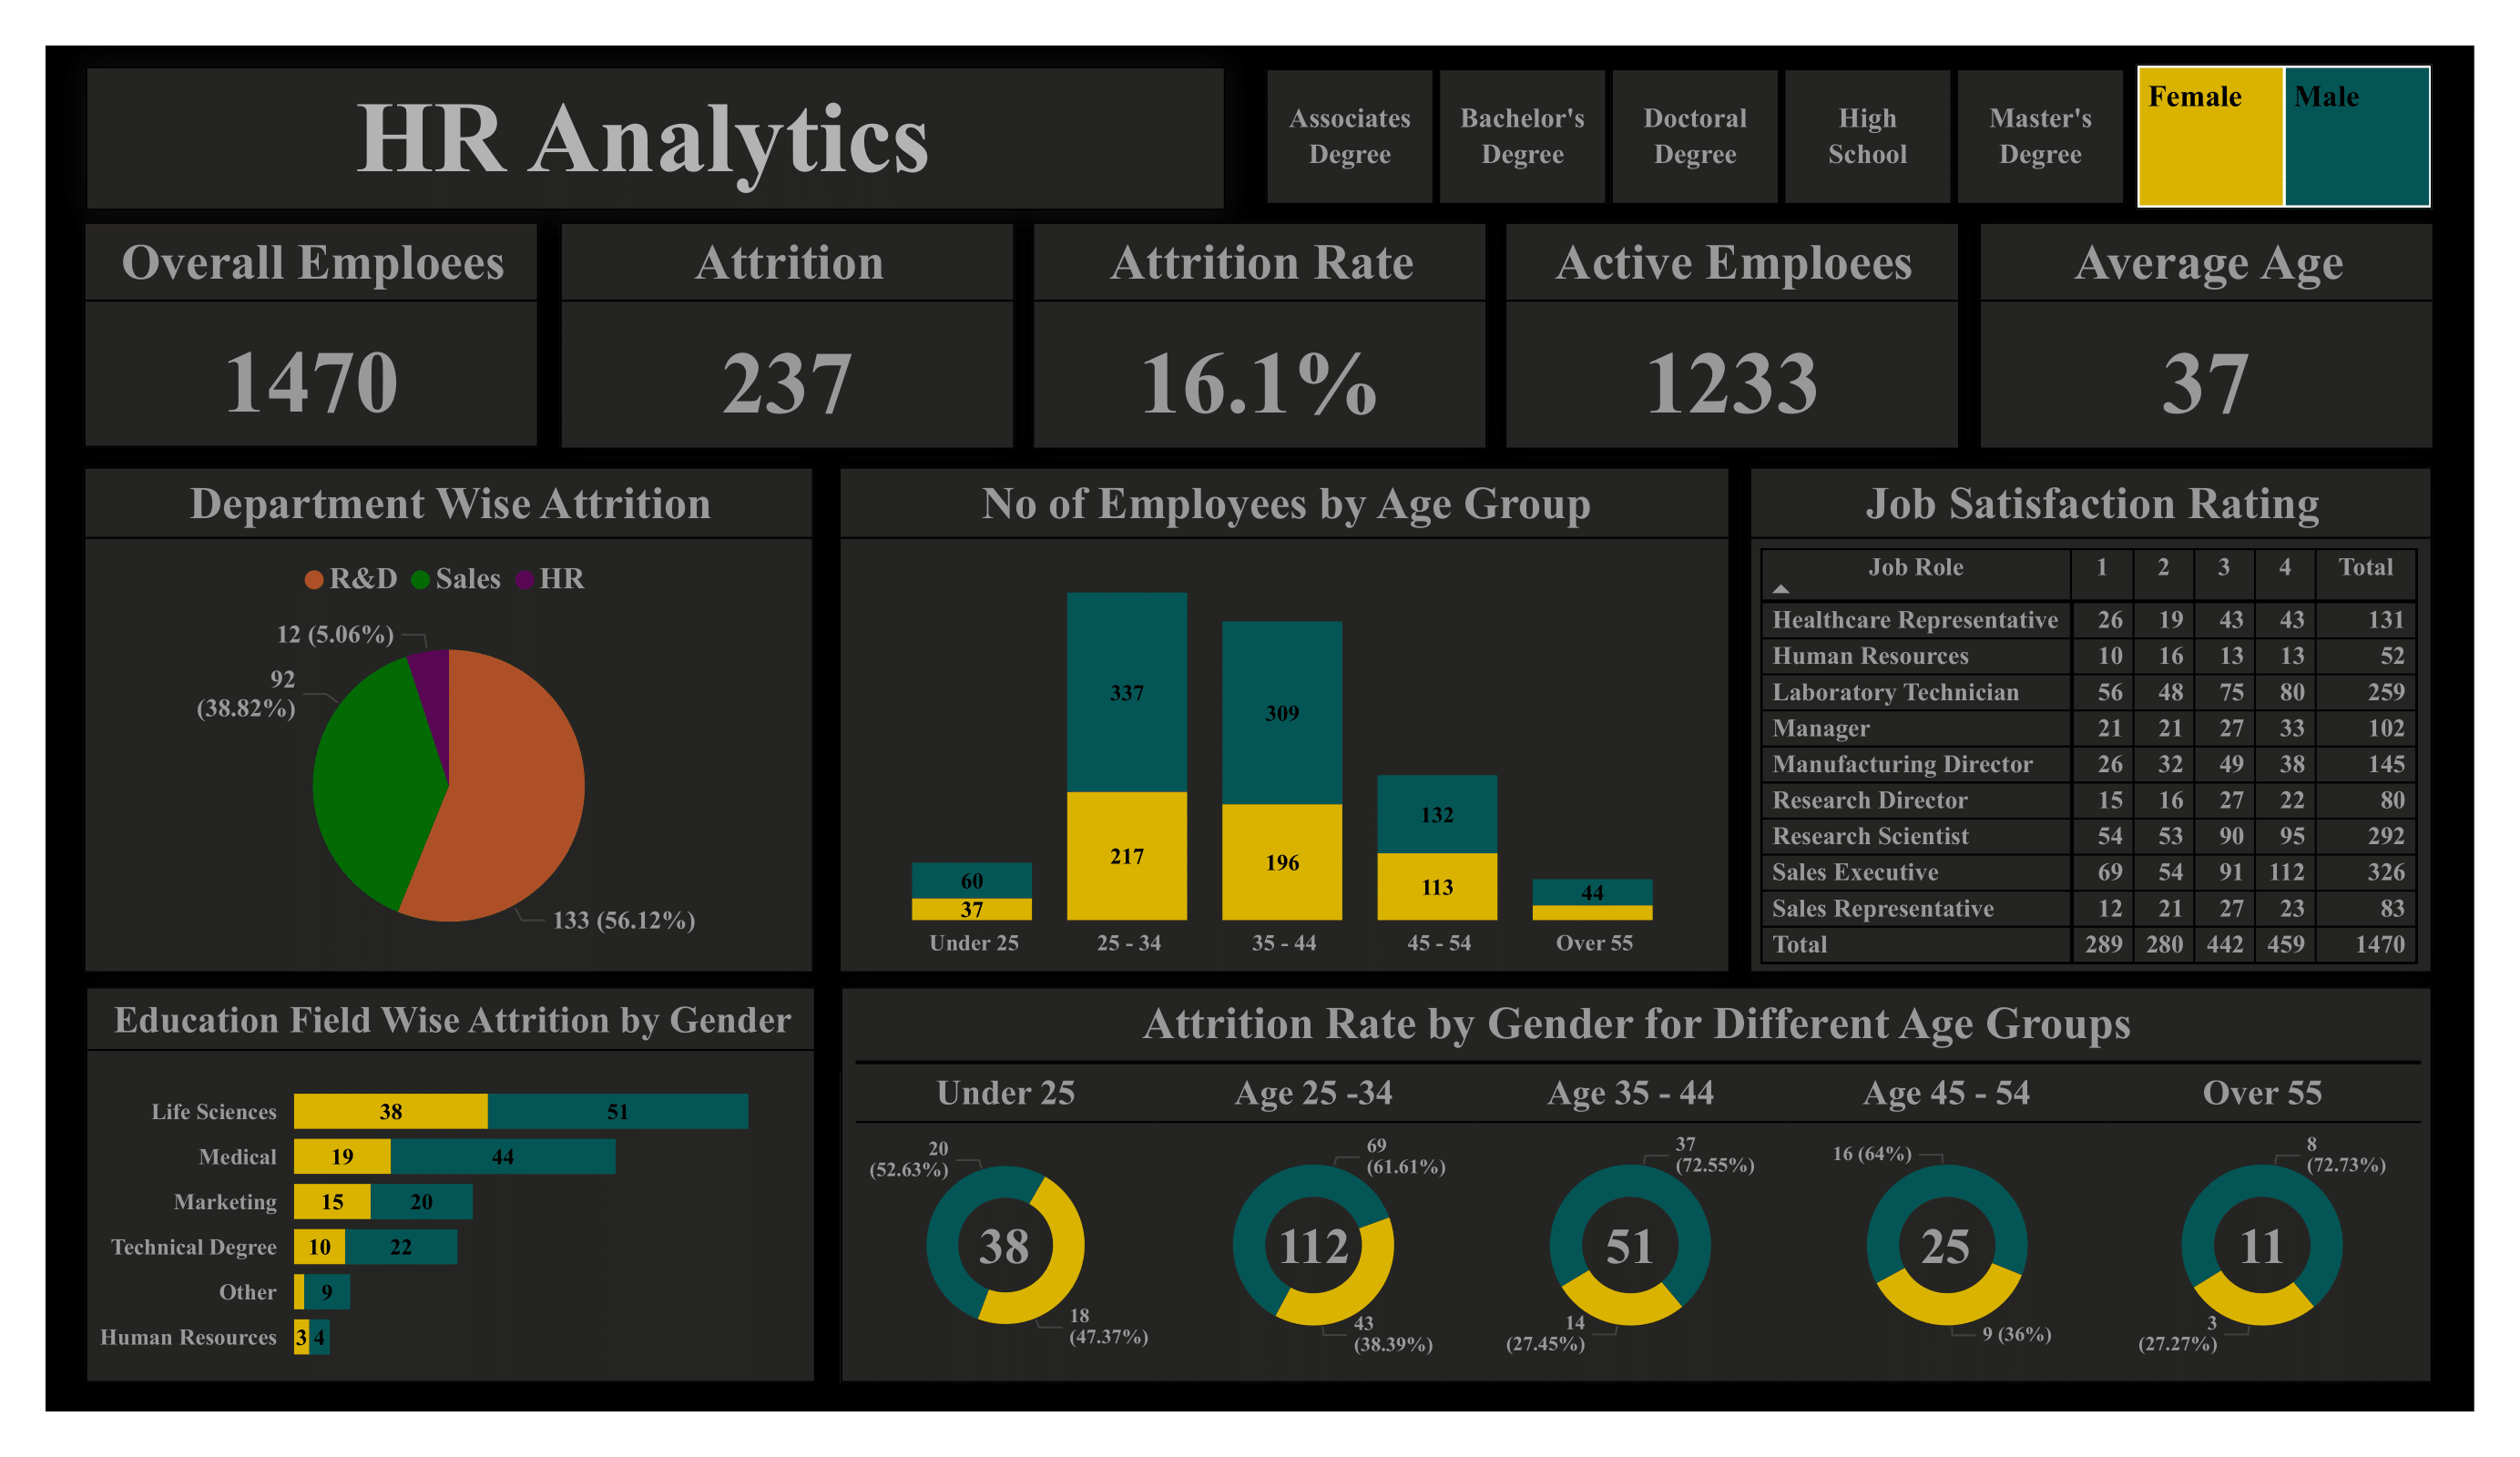

What the dashboard file says about the page in this screenshot:
{"tool":"powerbi","page":{"name":"HR_Dashboard","canvas":[1280,720],"ordinal":0},"visuals":[{"type":"card","title":"Overall Emploees","fields":{"Values":["Sum(HR data.Employee Count)"]},"box":[19.8,92.6,240.7,119.8],"z":0},{"type":"textbox","box":[21.1,10.5,601.3,76.3],"z":1000},{"type":"card","title":"Attrition","fields":{"Values":["Sum(HR data.Attrition Count)"]},"box":[271.2,92.8,240,120],"z":2000},{"type":"card","title":"Attrition Rate","fields":{"Values":["HR data.Attrition_Rate"]},"box":[520,92.8,240,120],"z":3000},{"type":"card","title":"Active Emploees","fields":{"Values":["HR data.Active_emp"]},"box":[768.8,92.8,240,120],"z":4000},{"type":"card","title":"Average Age","fields":{"Values":["Avg(HR data.Age)"]},"box":[1018.8,92.8,240,120],"z":5000},{"type":"pieChart","title":"Department Wise Attrition","fields":{"Category":["HR data.Department"],"Y":["Sum(HR data.Attrition Count)"]},"box":[19.7,221.8,385.1,267.4],"z":6000},{"type":"columnChart","title":"No of Employees by Age Group","fields":{"Category":["HR data.CF_age band"],"Series":["HR data.Gender"],"Y":["Sum(HR data.Employee Count)"]},"box":[417.8,221.8,469.9,267.4],"z":7000},{"type":"pivotTable","title":"Job Satisfaction Rating","fields":{"Rows":["HR data.Job Role"],"Columns":["HR data.Job Satisfaction"],"Values":["Sum(HR data.Employee Count)"]},"box":[897.7,221.8,360.2,267.4],"z":8000},{"type":"barChart","title":"Education Field Wise Attrition  by Gender","fields":{"Category":["HR data.Education Field"],"Y":["Sum(HR data.Attrition Count)"],"Series":["HR data.Gender"]},"box":[21,496.3,385.2,208.6],"z":9000},{"type":"donutChart","title":"Under 25","fields":{"Category":["HR data.Gender"],"Y":["Sum(HR data.Attrition Count)"],"Series":["HR data.CF_age band"]},"box":[418.5,540.7,167,164.2],"z":10000},{"type":"donutChart","title":"Age 25 -34","fields":{"Category":["HR data.Gender"],"Y":["Sum(HR data.Attrition Count)"],"Series":["HR data.CF_age band"]},"box":[585.2,540.7,166.7,164.2],"z":11000},{"type":"donutChart","title":"Age 35 - 44","fields":{"Category":["HR data.Gender"],"Y":["Sum(HR data.Attrition Count)"],"Series":["HR data.CF_age band"]},"box":[751.9,540.7,166.7,164.2],"z":12000},{"type":"donutChart","title":"Age 45 - 54","fields":{"Category":["HR data.Gender"],"Y":["Sum(HR data.Attrition Count)"],"Series":["HR data.CF_age band"]},"box":[918.5,540.7,166.7,164.2],"z":13000},{"type":"donutChart","title":"Over 55","fields":{"Category":["HR data.Gender"],"Y":["Sum(HR data.Attrition Count)"],"Series":["HR data.CF_age band"]},"box":[1085.2,540.7,166.7,164.2],"z":14000},{"type":"textbox","box":[418.5,496.3,839.5,208.6],"z":15000},{"type":"donutChart","title":"Under 25","fields":{"Category":["HR data.Gender"],"Y":["Sum(HR data.Attrition Count)"],"Series":["HR data.CF_age band"]},"box":[427.2,535.8,158,160.5],"z":16000},{"type":"donutChart","title":"Age 25 -34","fields":{"Category":["HR data.Gender"],"Y":["Sum(HR data.Attrition Count)"],"Series":["HR data.CF_age band"]},"box":[585.2,535.8,166.7,160.5],"z":17000},{"type":"donutChart","title":"Age 35 - 44","fields":{"Category":["HR data.Gender"],"Y":["Sum(HR data.Attrition Count)"],"Series":["HR data.CF_age band"]},"box":[751.9,535.8,166.7,160.5],"z":18000},{"type":"donutChart","title":"Age 45 - 54","fields":{"Category":["HR data.Gender"],"Y":["Sum(HR data.Attrition Count)"],"Series":["HR data.CF_age band"]},"box":[918.5,535.8,166.7,160.5],"z":19000},{"type":"donutChart","title":"Over 55","fields":{"Category":["HR data.Gender"],"Y":["Sum(HR data.Attrition Count)"],"Series":["HR data.CF_age band"]},"box":[1085.2,535.8,166.7,160.5],"z":20000},{"type":"shape","box":[427.2,530.9,824.7,9.9],"z":21000},{"type":"card","fields":{"Values":["Sum(HR data.Attrition Count)"]},"box":[479,616,53.1,33.3],"z":22000},{"type":"card","fields":{"Values":["Sum(HR data.Attrition Count)"]},"box":[642,616,53.1,33.3],"z":23000},{"type":"card","fields":{"Values":["Sum(HR data.Attrition Count)"]},"box":[808.6,616,53.1,33.3],"z":24000},{"type":"card","fields":{"Values":["Sum(HR data.Attrition Count)"]},"box":[975.3,616,53.1,33.3],"z":25000},{"type":"slicer","fields":{"Values":["HR data.Education"]},"box":[622.2,9.9,492.6,76.5],"z":25500},{"type":"card","fields":{"Values":["Sum(HR data.Attrition Count)"]},"box":[1142,616,53.1,33.3],"z":26000},{"type":"treemap","fields":{"Group":["HR data.Gender"],"Values":["Avg(HR data.Employee Count)"]},"box":[1102.5,9.9,155.6,76.5],"z":28000}]}

Visuals, with their boxes on the page's 1280x720 design canvas (x1, y1, x2, y2). These are canvas units, not pixel positions in the 2520x1457 screenshot, which may show the page scaled, cropped or inside an application window:
"Overall Emploees" card: 20,93,260,212
textbox: 21,10,622,87
"Attrition" card: 271,93,511,213
"Attrition Rate" card: 520,93,760,213
"Active Emploees" card: 769,93,1009,213
"Average Age" card: 1019,93,1259,213
"Department Wise Attrition" pieChart: 20,222,405,489
"No of Employees by Age Group" columnChart: 418,222,888,489
"Job Satisfaction Rating" pivotTable: 898,222,1258,489
"Education Field Wise Attrition  by Gender" barChart: 21,496,406,705
"Under 25" donutChart: 418,541,586,705
"Age 25 -34" donutChart: 585,541,752,705
"Age 35 - 44" donutChart: 752,541,919,705
"Age 45 - 54" donutChart: 918,541,1085,705
"Over 55" donutChart: 1085,541,1252,705
textbox: 418,496,1258,705
"Under 25" donutChart: 427,536,585,696
"Age 25 -34" donutChart: 585,536,752,696
"Age 35 - 44" donutChart: 752,536,919,696
"Age 45 - 54" donutChart: 918,536,1085,696
"Over 55" donutChart: 1085,536,1252,696
shape: 427,531,1252,541
card - Sum(HR data.Attrition Count): 479,616,532,649
card - Sum(HR data.Attrition Count): 642,616,695,649
card - Sum(HR data.Attrition Count): 809,616,862,649
card - Sum(HR data.Attrition Count): 975,616,1028,649
slicer - HR data.Education: 622,10,1115,86
card - Sum(HR data.Attrition Count): 1142,616,1195,649
treemap - HR data.Gender x Avg(HR data.Employee Count): 1102,10,1258,86
